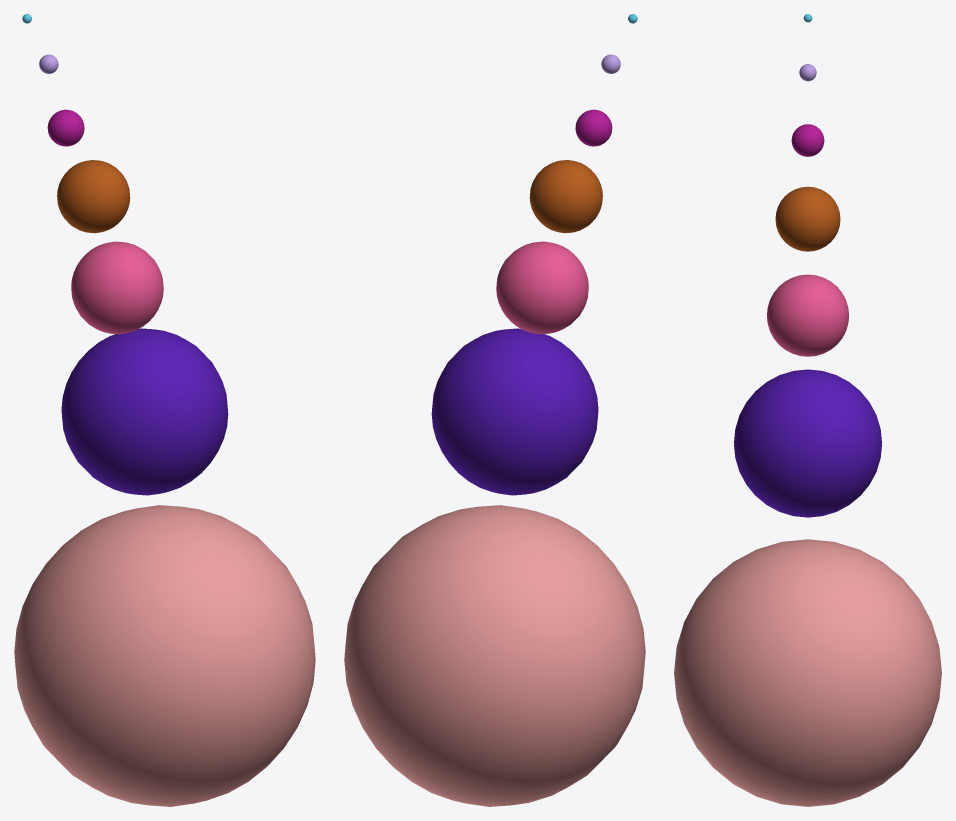
File: simple_003_Parenting_00.dae
3 views of the same model, side by side, from view 1: azimuth 30°, elevation 25°; view 2: azimuth 150°, elevation 25°; view 3: azimuth 270°, elevation 25° (orthographic). The views are drawn at different scales.
Parts seen in each view (by area): view 1: Sphere01, Sphere02, Sphere03, Sphere04, Sphere05; view 2: Sphere01, Sphere02, Sphere03, Sphere04, Sphere05; view 3: Sphere01, Sphere02, Sphere03, Sphere04, Sphere05.
Boxes of the visible parts, bbox=[...] form: Sphere01: bbox=[14, 505, 315, 806]; Sphere02: bbox=[61, 328, 228, 495]; Sphere03: bbox=[71, 241, 163, 334]; Sphere04: bbox=[57, 160, 130, 233]; Sphere05: bbox=[47, 109, 84, 146]; Sphere01: bbox=[344, 505, 645, 806]; Sphere02: bbox=[431, 328, 598, 495]; Sphere03: bbox=[496, 241, 588, 334]; Sphere04: bbox=[529, 160, 602, 233]; Sphere05: bbox=[575, 109, 612, 146]; Sphere01: bbox=[674, 539, 941, 806]; Sphere02: bbox=[734, 369, 881, 517]; Sphere03: bbox=[767, 274, 848, 356]; Sphere04: bbox=[775, 186, 840, 251]; Sphere05: bbox=[791, 124, 824, 156].
Size of what is drawn, in the model's own units: 1445 by 1386 by 4111.
